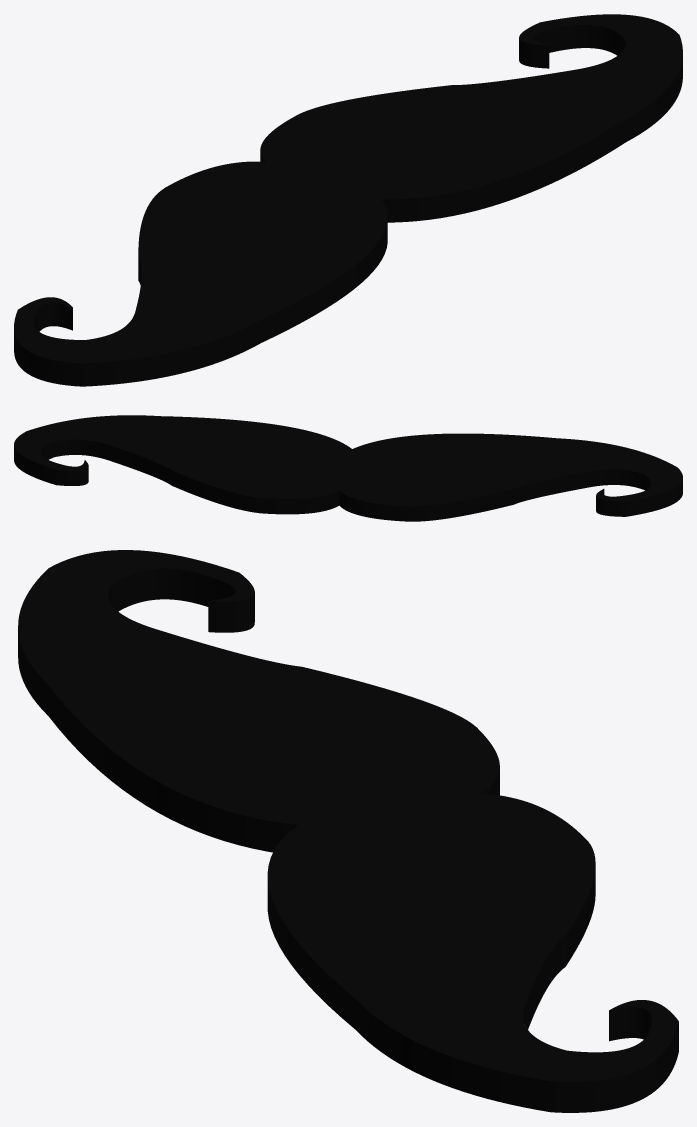
The model's file is french_mustache.fbx.
3 renders of one model, top to bottom at view 1: azimuth 30°, elevation 25°; view 2: azimuth 150°, elevation 25°; view 3: azimuth 270°, elevation 25°, orthographic. The views are drawn at different scales.
Parts seen in each view (by area): view 1: french_mustache; view 2: french_mustache; view 3: french_mustache.
Part boxes in pixels (left/top/right/bottom): french_mustache: left=14, top=14, right=682, bottom=386; french_mustache: left=14, top=415, right=682, bottom=521; french_mustache: left=18, top=550, right=678, bottom=1112.
Size of the model in its own units: 118 by 3.21 by 62.17.
